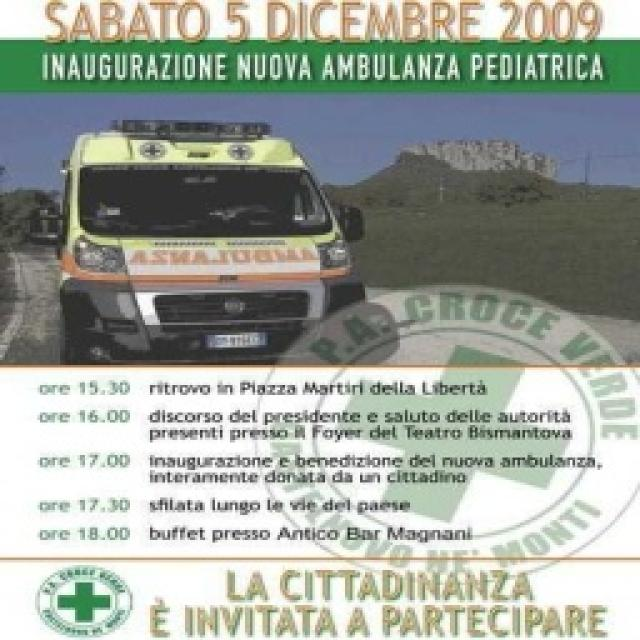ambulance: (60, 120, 364, 362)
